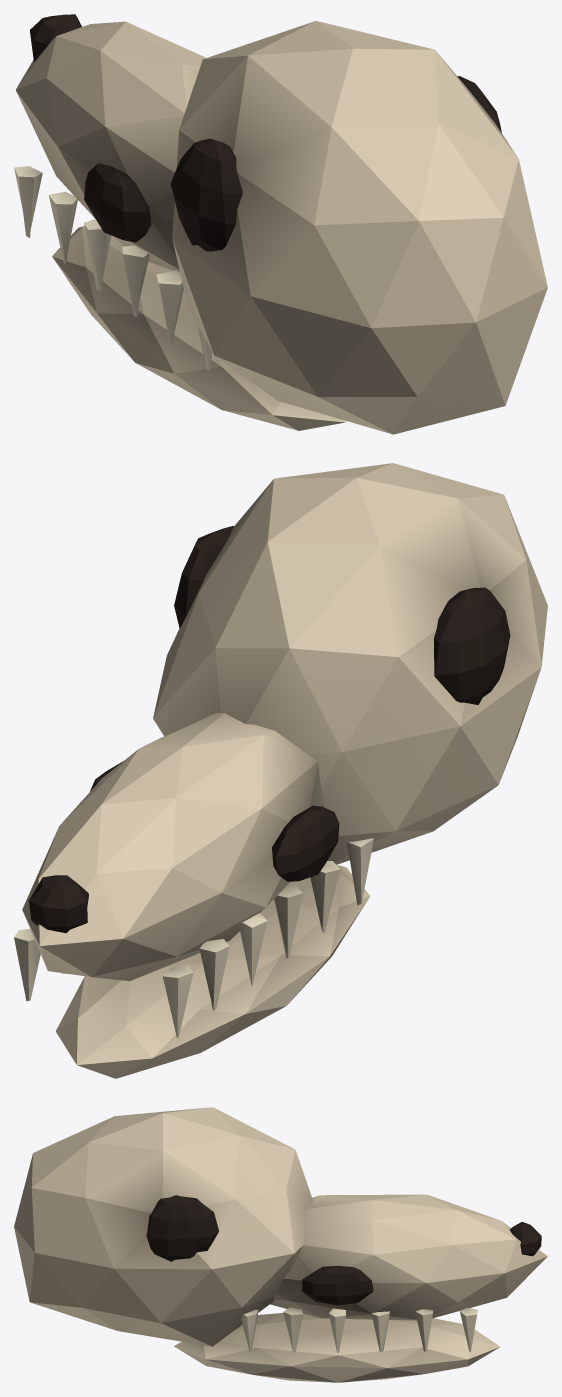
File: find_trex.glb
3 views of the same model, one above another, from view 1: azimuth 30°, elevation 25°; view 2: azimuth 150°, elevation 25°; view 3: azimuth 270°, elevation 25° (orthographic). The views are drawn at different scales.
Parts seen in each view (by area): view 1: TRex; view 2: TRex; view 3: TRex.
Boxes of the visible parts, x1,y1,x2,y2 form: TRex: (14,14,547,434); TRex: (14,463,547,1078); TRex: (14,1107,547,1382).
Bounding box in the file's own units: 0.2451 × 0.327 × 0.6074.
